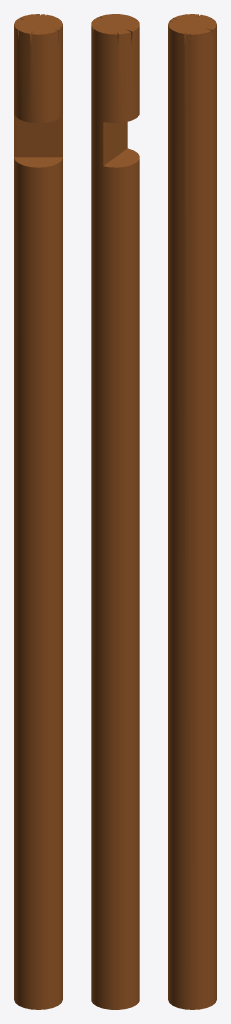
Rendered from Building_Modular_Wood_Support_02.fbx.
3 renders of one model, left to right at view 1: azimuth 90°, elevation 25°; view 2: azimuth 150°, elevation 25°; view 3: azimuth 270°, elevation 25°, orthographic.
Parts seen in each view (by area): view 1: Model; view 2: Model; view 3: Model.
Part boxes in pixels (x1,y1,x2,y2): Model: [14, 14, 62, 1009]; Model: [91, 14, 139, 1009]; Model: [168, 14, 216, 1009].
Bounding box in the file's own units: 90.24 × 1985 × 90.24.
